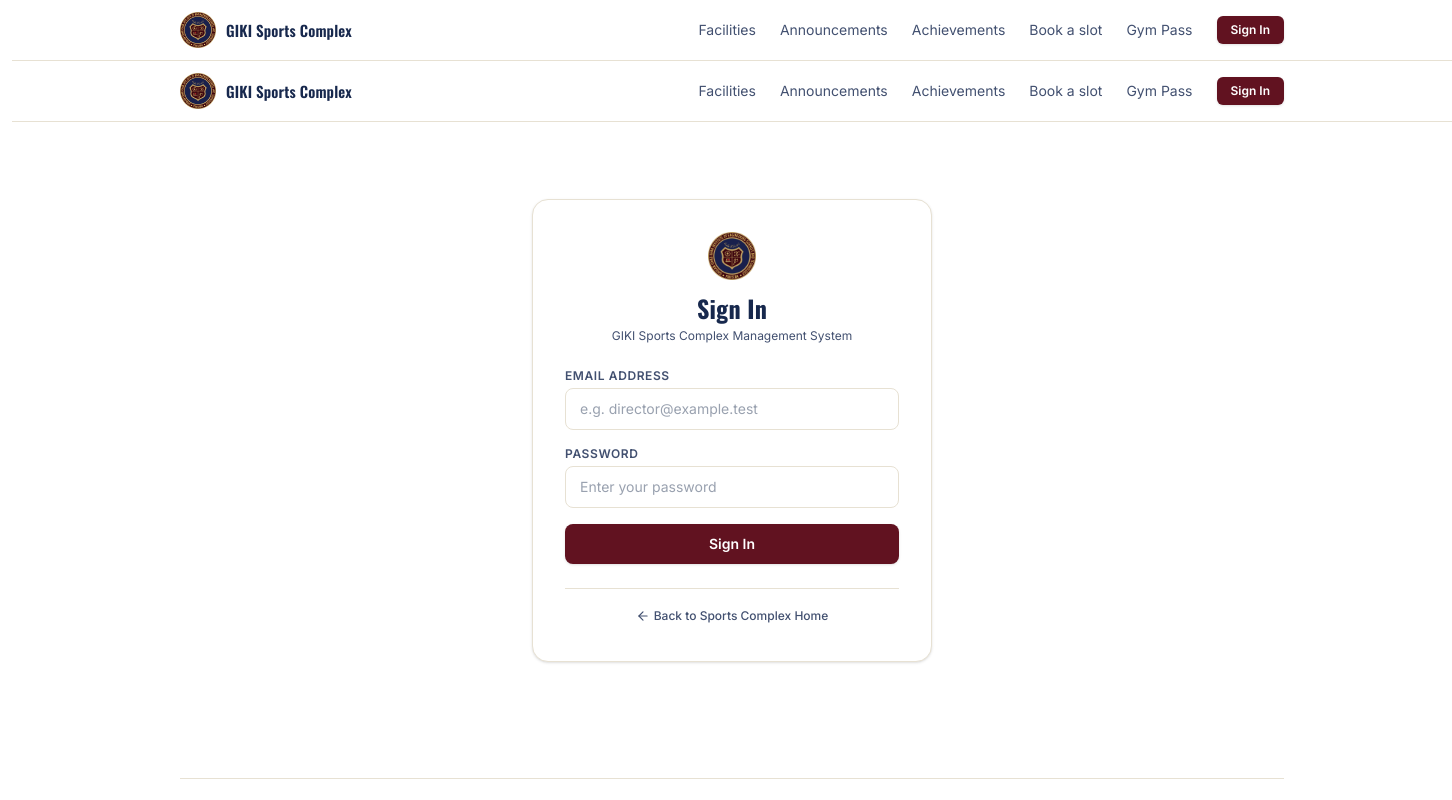
Frontend Authentication Flow › authenticates user and redirects to home page on login success
This screenshot has width=1452, height=800.
Step 1. Type "director@example.test" into the field labelled "Email address" → (732, 408), box [565,388,899,430]
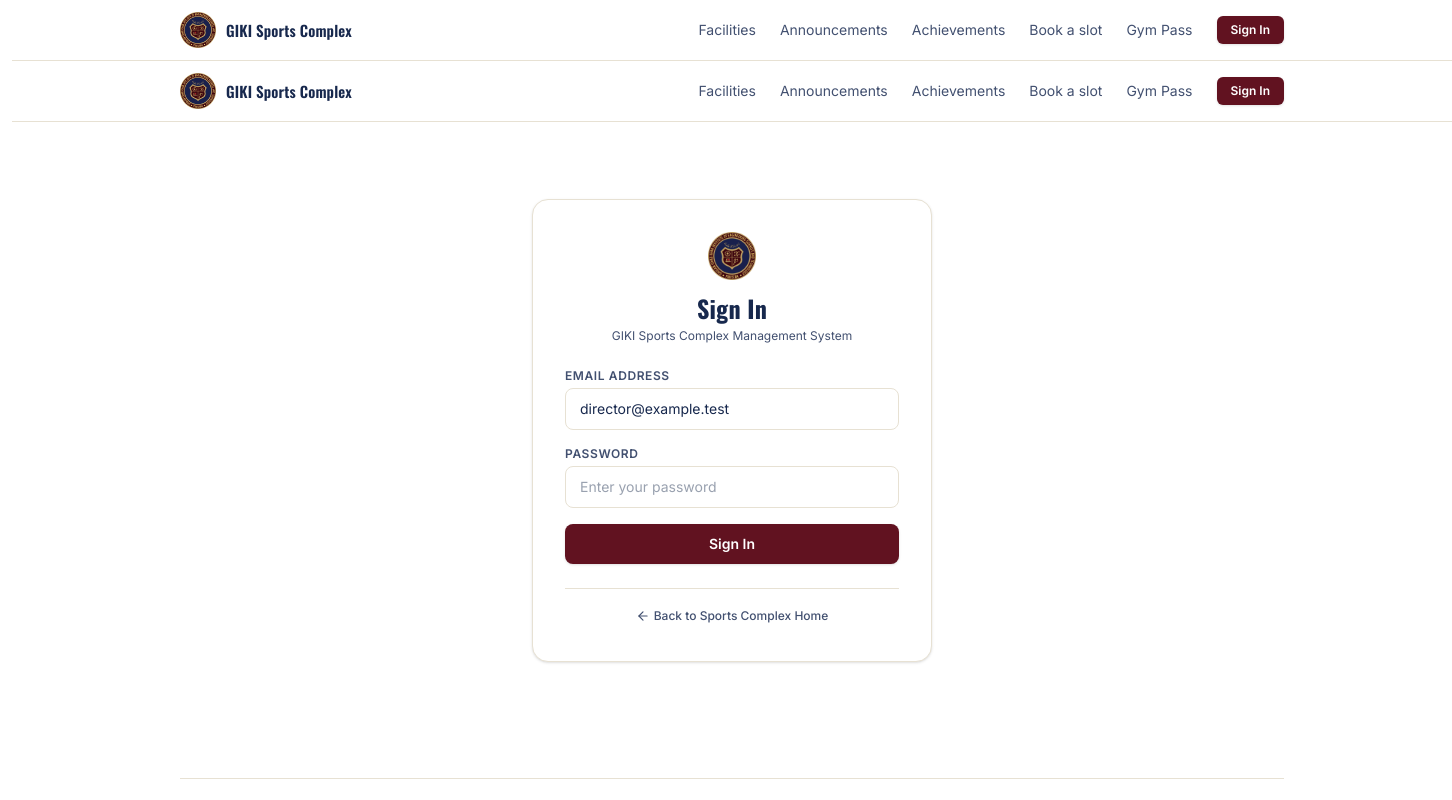
Step 2. Type "validPassword" into the password field labelled "Password" → (732, 486), box [565,466,899,508]
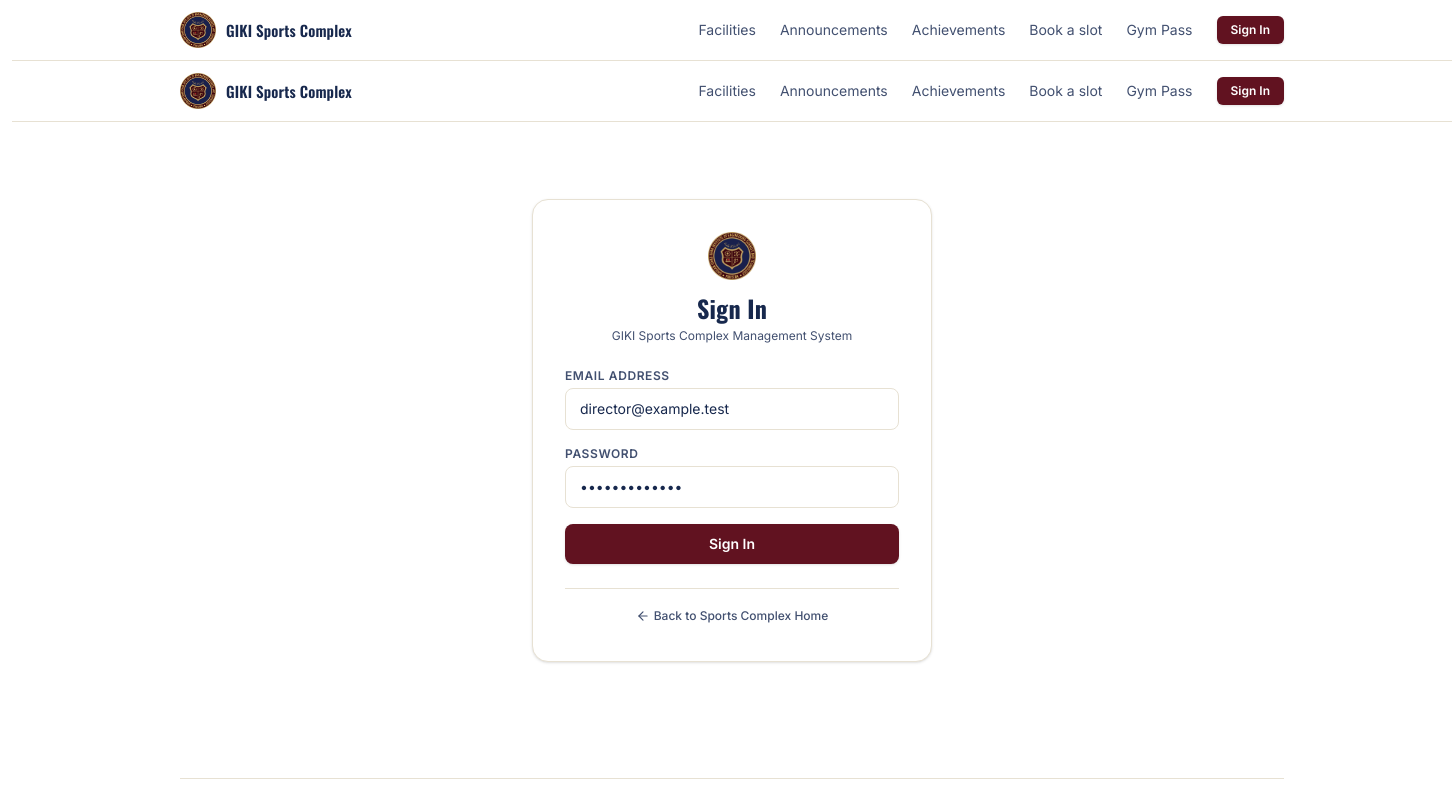
Step 3. Click the button "Sign In" → (732, 544), box [565,524,899,564]
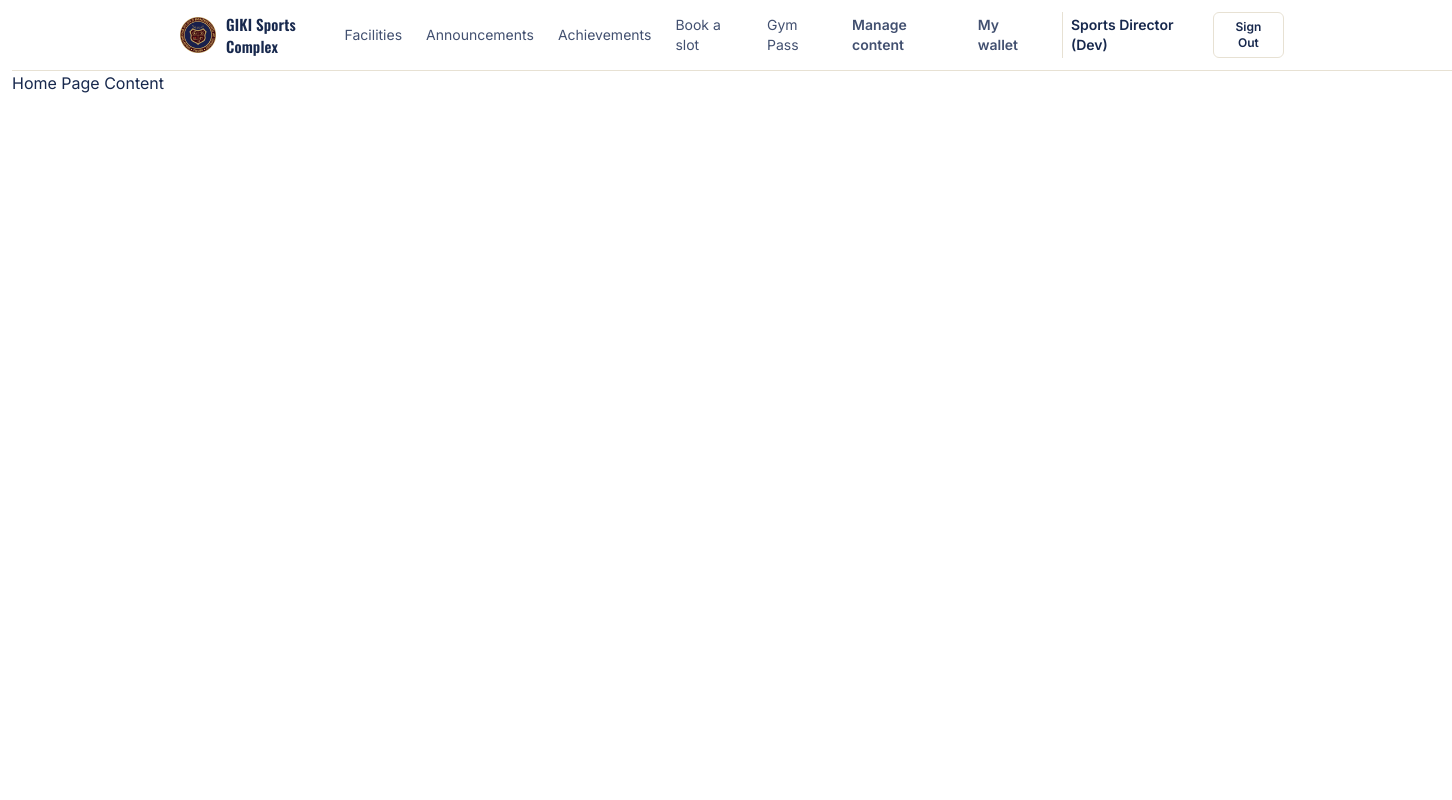
Expected: the text "Home Page Content" is shown, [12,73,164,93]
Expected: the text "Sports Director (Dev)" is shown, [1071,16,1174,53]
